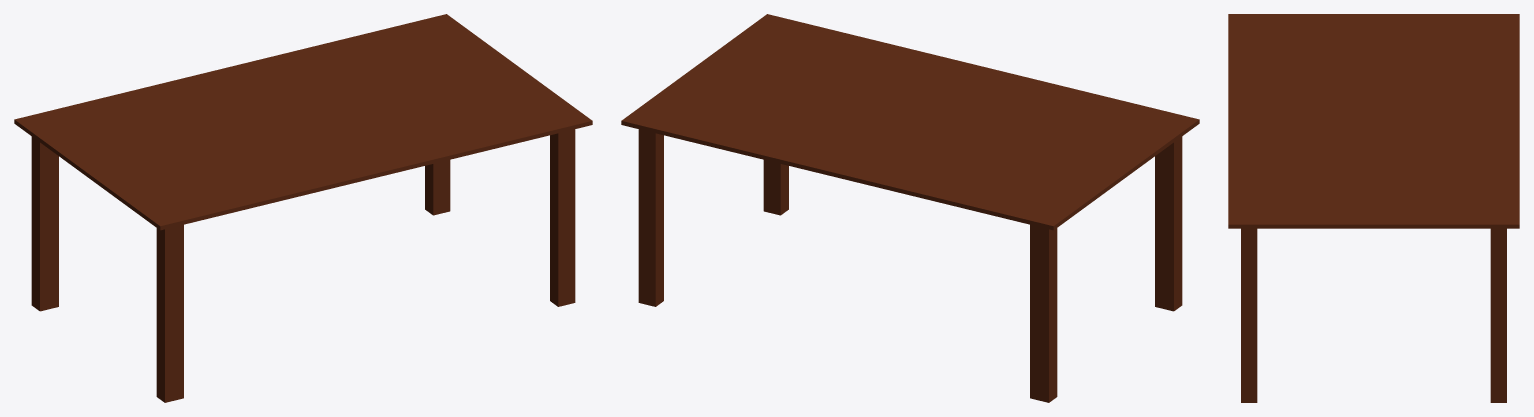
Rendered from Table.FBX.
3 renders of one model, left to right at view 1: azimuth 30°, elevation 25°; view 2: azimuth 150°, elevation 25°; view 3: azimuth 270°, elevation 25°, orthographic.
Visible parts, largest first — view 1: Mesa; view 2: Mesa; view 3: Mesa.
Part boxes in pixels (x1,y1,x2,y2): Mesa: (14, 14, 592, 402); Mesa: (621, 14, 1199, 402); Mesa: (1228, 14, 1519, 402).
Bounding box in the file's own units: 85.5 × 34.79 × 49.98.
